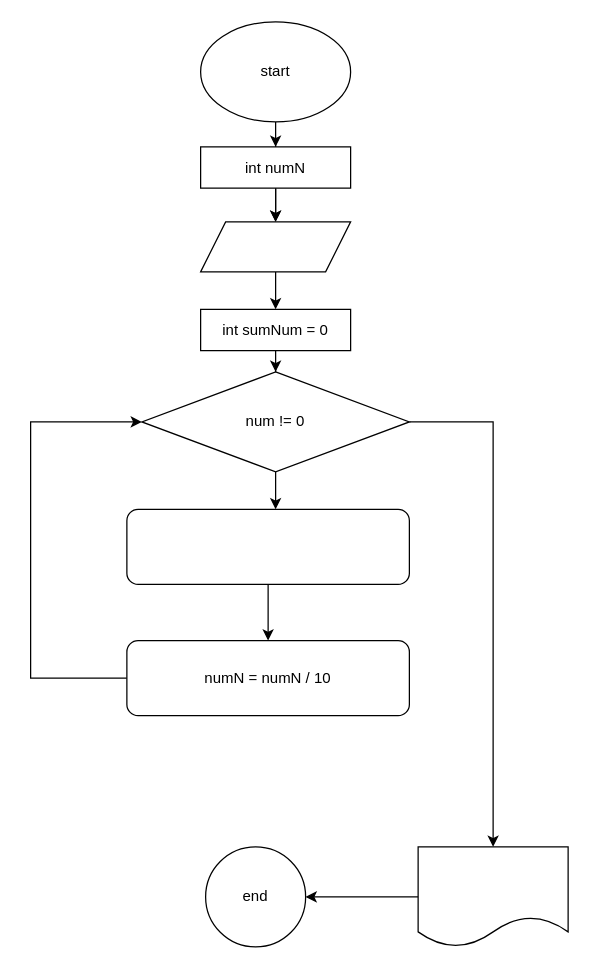
Some shapes in this 590 by 969 pixel diagram are drawn without their labels. The shapes that lost their labels are listed below. From the top down, each one's box as (x1, y1, x2, y2) in pixels, then its label:
(199, 221, 351, 272): numN = number
(126, 508, 409, 584): sunNum = sumNum + (numN%10)
(417, 846, 568, 947): print sumNum
